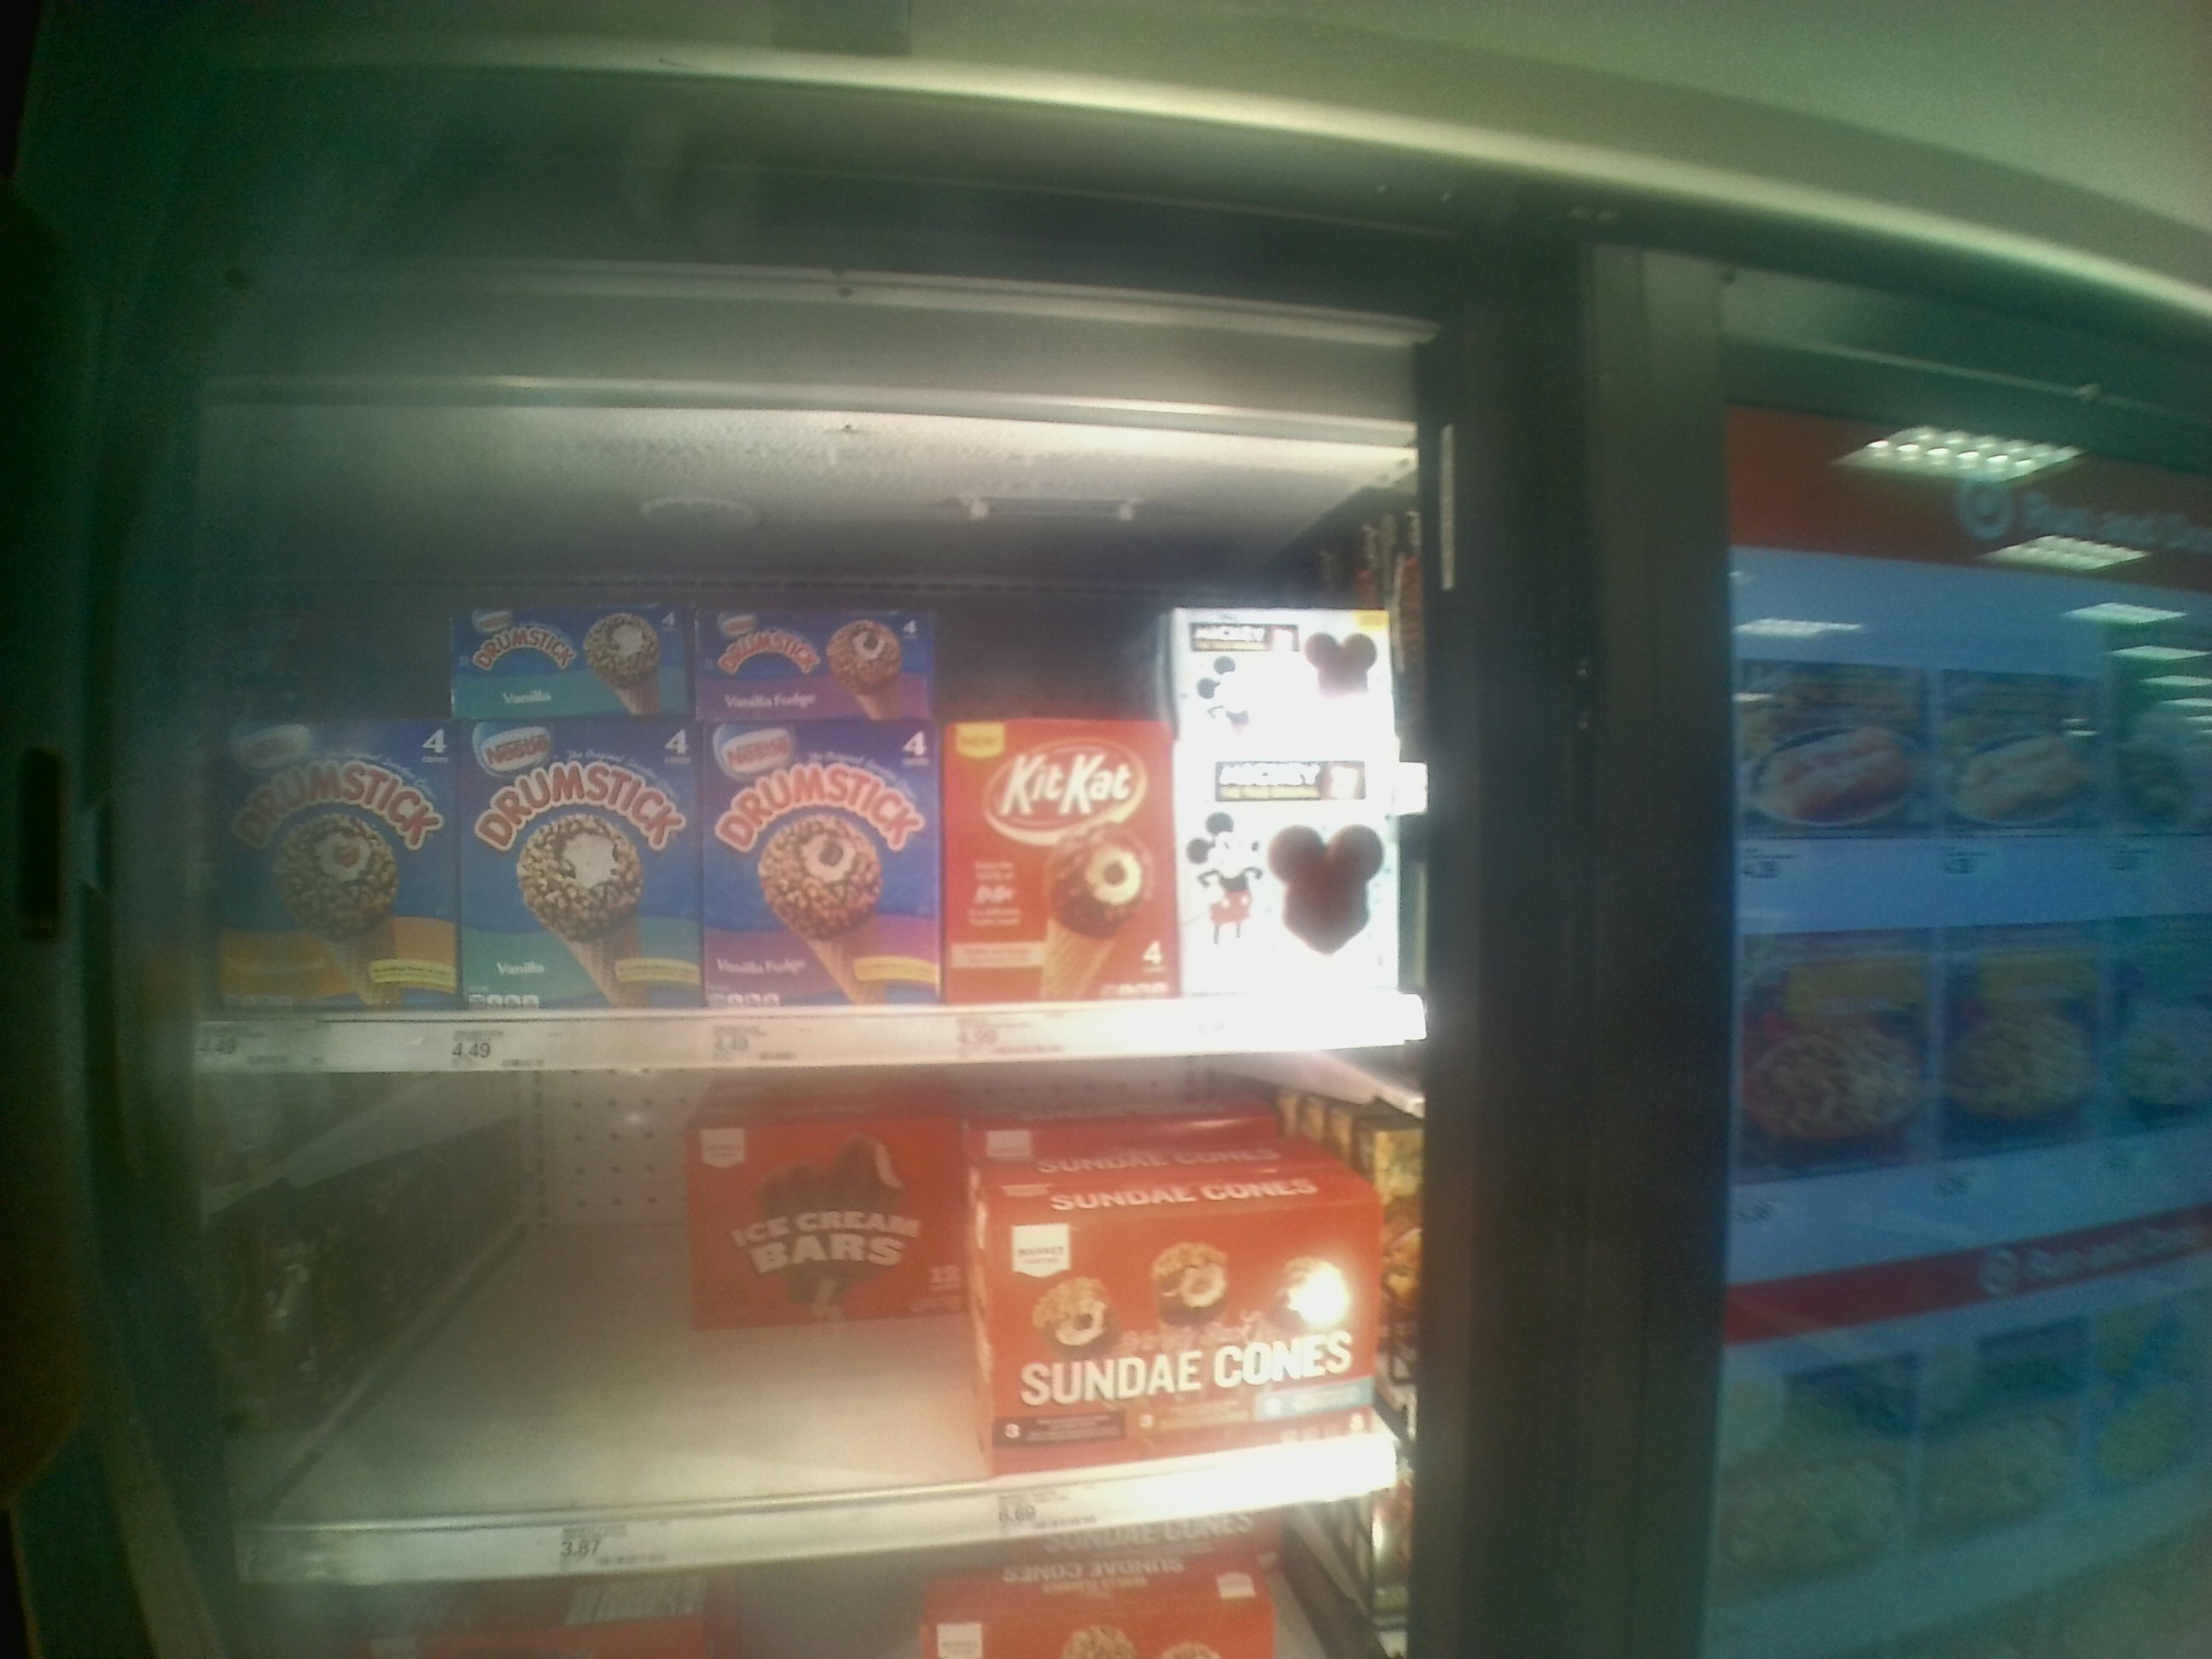frozen-food-shelf: (179, 511, 1411, 1080), (178, 1082, 1425, 1575)
